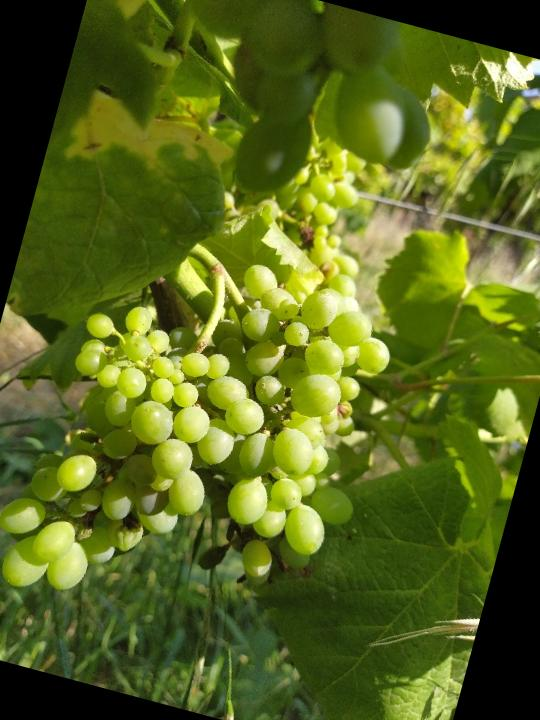grape: (0, 201, 413, 669)
